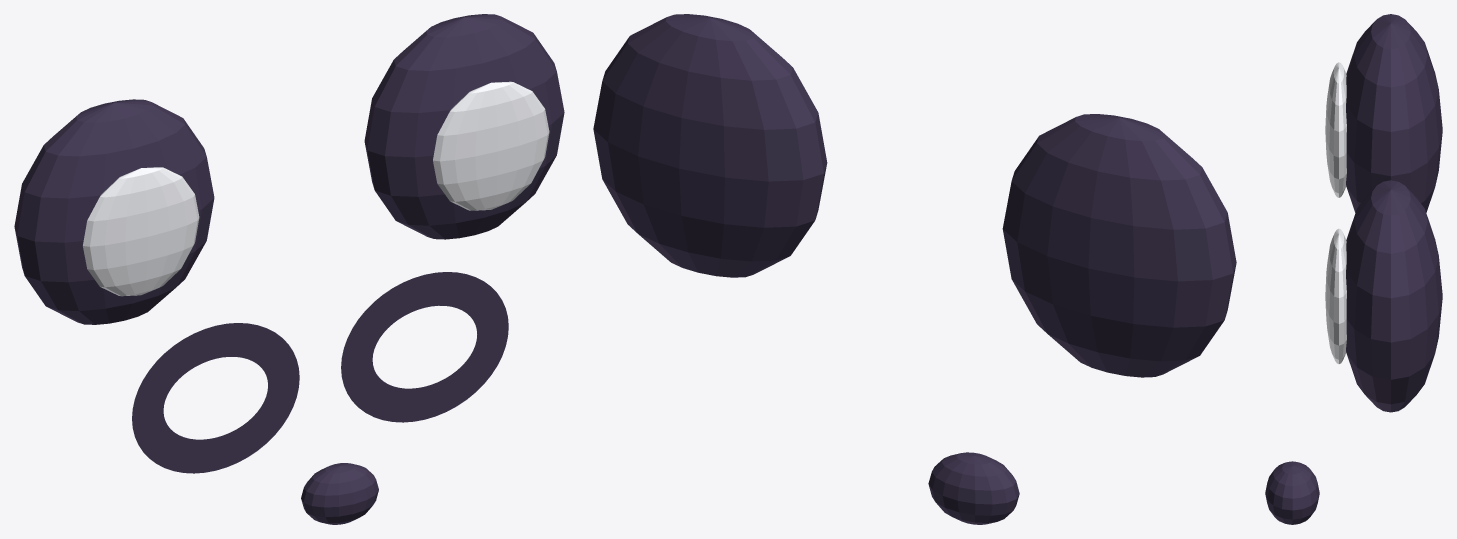
The model's file is panda.glb.
3 renders of one model, left to right at view 1: azimuth 30°, elevation 25°; view 2: azimuth 150°, elevation 25°; view 3: azimuth 270°, elevation 25°, orthographic. The views are drawn at different scales.
Visible parts, largest first — view 1: panda ear (×2), panda eye patch (×2), panda ear inner (×2), nose; view 2: panda ear (×2), nose; view 3: panda ear (×2), panda ear inner (×2), nose.
Part boxes in pixels (x1=…): panda ear (×2): x1=14, y1=14, x2=564, y2=324; panda eye patch (×2): x1=132, y1=272, x2=508, y2=473; panda ear inner (×2): x1=83, y1=81, x2=549, y2=296; nose: x1=301, y1=463, x2=378, y2=524; panda ear (×2): x1=593, y1=14, x2=1236, y2=377; nose: x1=928, y1=452, x2=1019, y2=524; panda ear (×2): x1=1346, y1=14, x2=1442, y2=412; panda ear inner (×2): x1=1325, y1=62, x2=1346, y2=363; nose: x1=1265, y1=461, x2=1319, y2=524.
Size of the model in its own units: 2.24 by 1.67 by 0.65.
